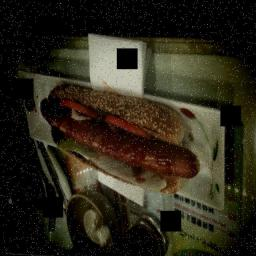hotdog: (36, 80, 200, 195)
